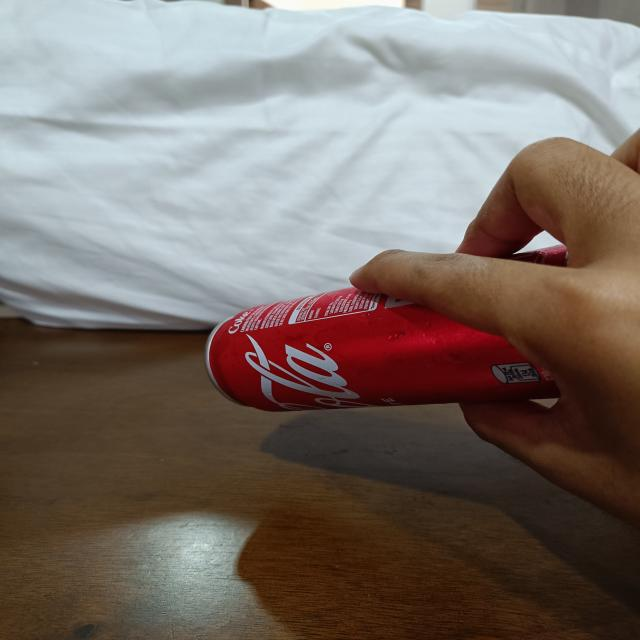coke: (210, 240, 597, 417)
